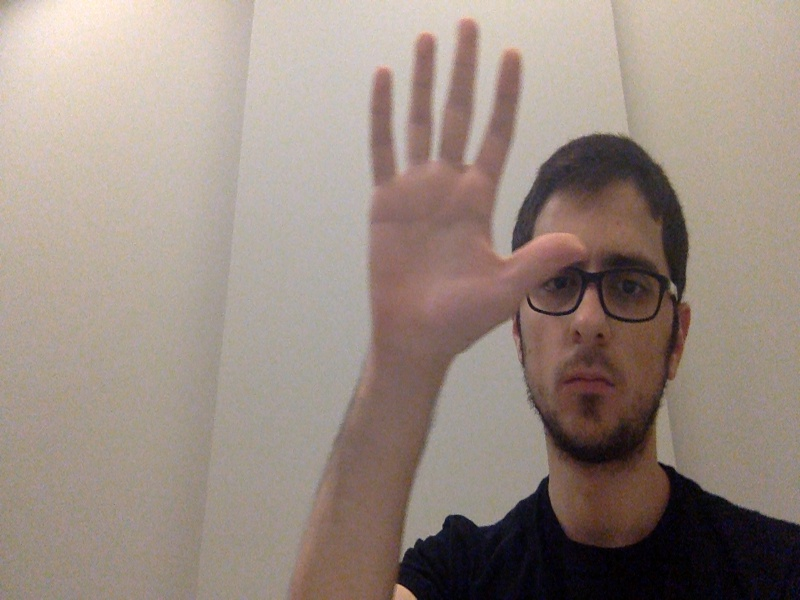5-hand: (367, 17, 588, 357)
